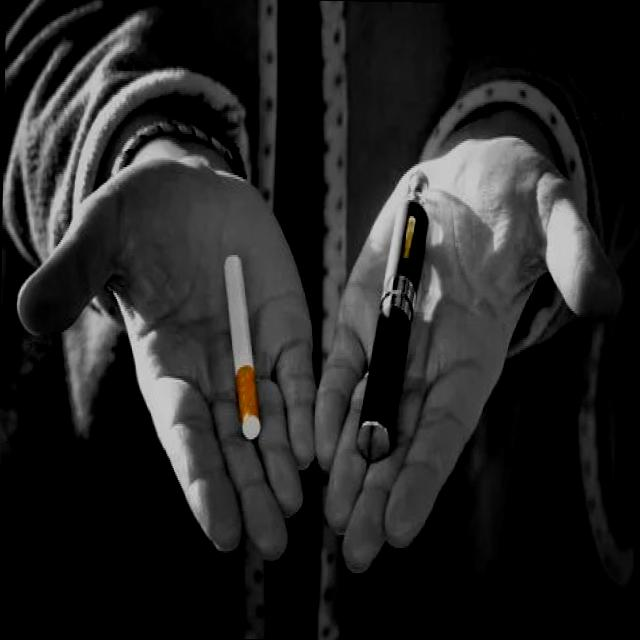smoke: (354, 167, 434, 462), (218, 246, 270, 445)
